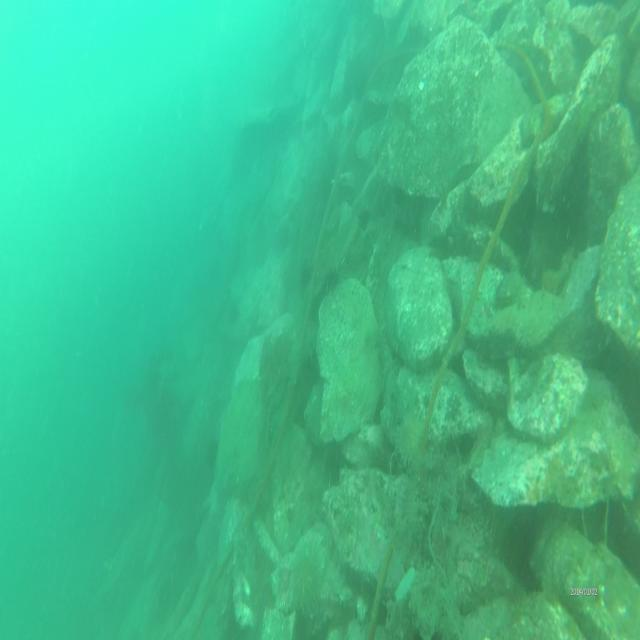echinus: (392, 412, 428, 472), (206, 436, 222, 468), (299, 266, 315, 294)
holothurian: (248, 511, 283, 569)
